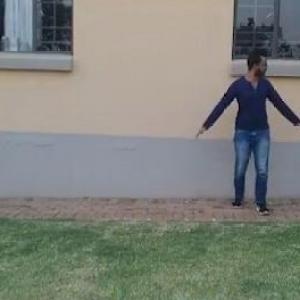land: (191, 41, 299, 223)
